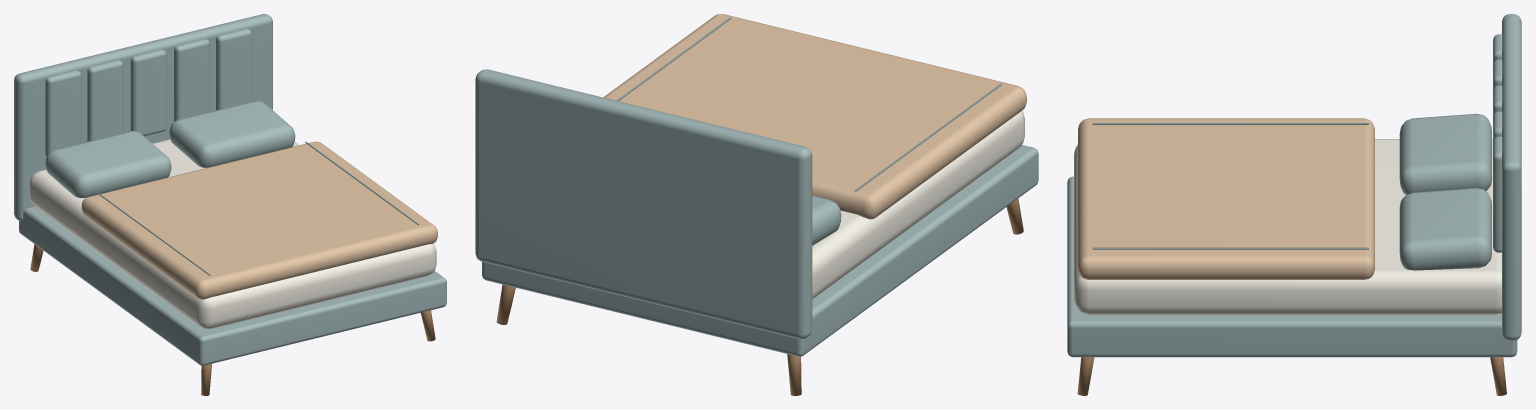
The model's file is atelier-upholstered-bed.glb.
The picture shows the model from 3 angles, left to right: view 1: azimuth 30°, elevation 25°; view 2: azimuth 150°, elevation 25°; view 3: azimuth 270°, elevation 25°; orthographic projection. The views are drawn at different scales.
Visible parts, largest first — view 1: fabric.040, bedding.014, ceramic.014, legs.037, seams.039; view 2: fabric.040, bedding.014, ceramic.014, legs.037, seams.039; view 3: bedding.014, fabric.040, ceramic.014, seams.039, legs.037.
Boxes of the visible parts, bbox=[...] form: fabric.040: bbox=[14, 14, 446, 365]; bedding.014: bbox=[81, 141, 437, 299]; ceramic.014: bbox=[29, 139, 436, 329]; legs.037: bbox=[30, 244, 435, 395]; seams.039: bbox=[97, 141, 418, 275]; fabric.040: bbox=[475, 69, 1038, 356]; bedding.014: bbox=[603, 14, 1026, 219]; ceramic.014: bbox=[812, 110, 1024, 298]; legs.037: bbox=[496, 198, 1023, 395]; seams.039: bbox=[617, 17, 1001, 192]; bedding.014: bbox=[1078, 118, 1374, 279]; fabric.040: bbox=[1067, 14, 1521, 357]; ceramic.014: bbox=[1074, 139, 1501, 315]; seams.039: bbox=[1092, 123, 1368, 249]; legs.037: bbox=[1077, 357, 1506, 395].
Size of the model in its own units: 1.65 by 1.2 by 2.07.
